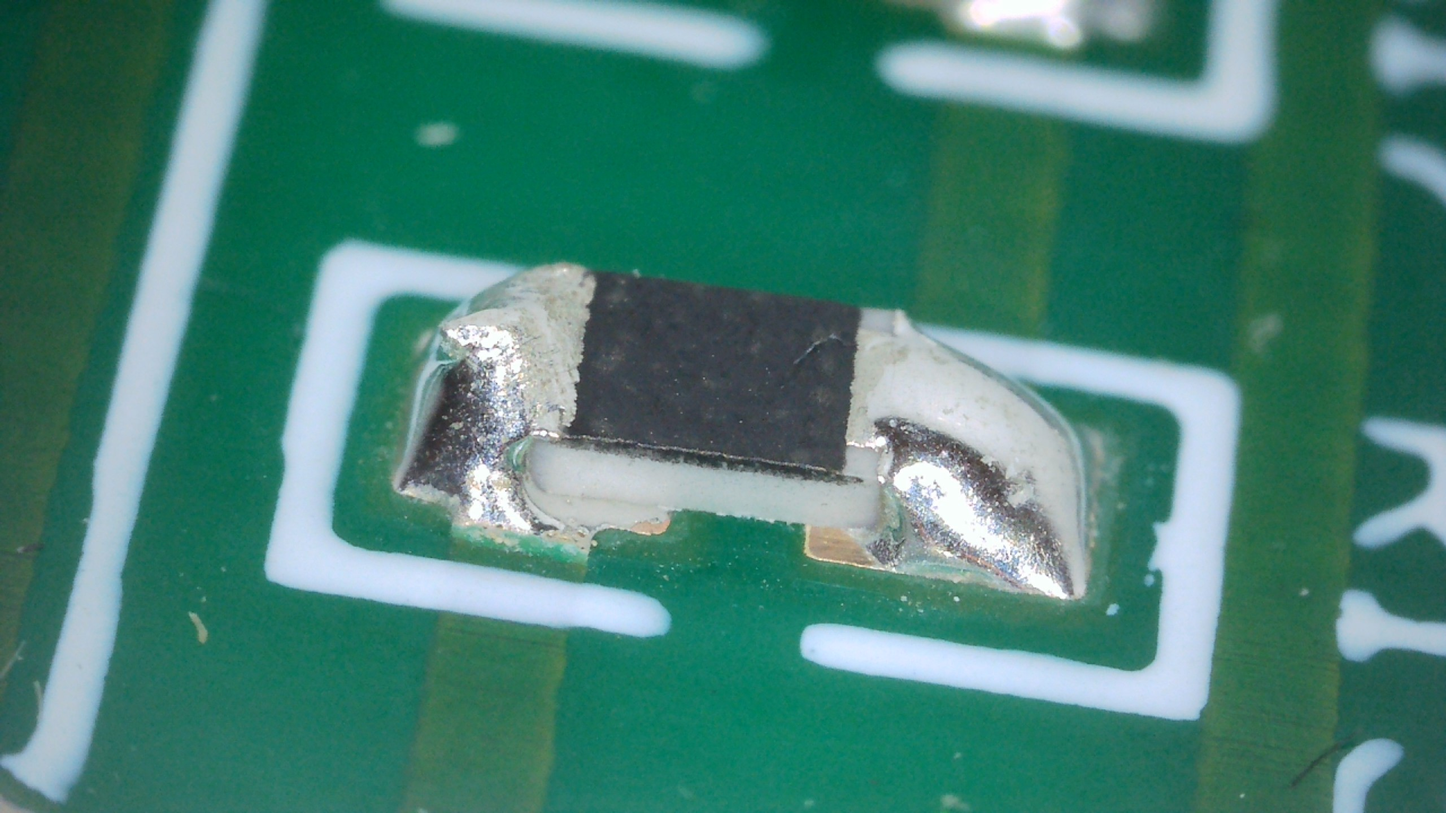NG: (843, 308, 1089, 599), (393, 266, 589, 539), (438, 309, 534, 370)
